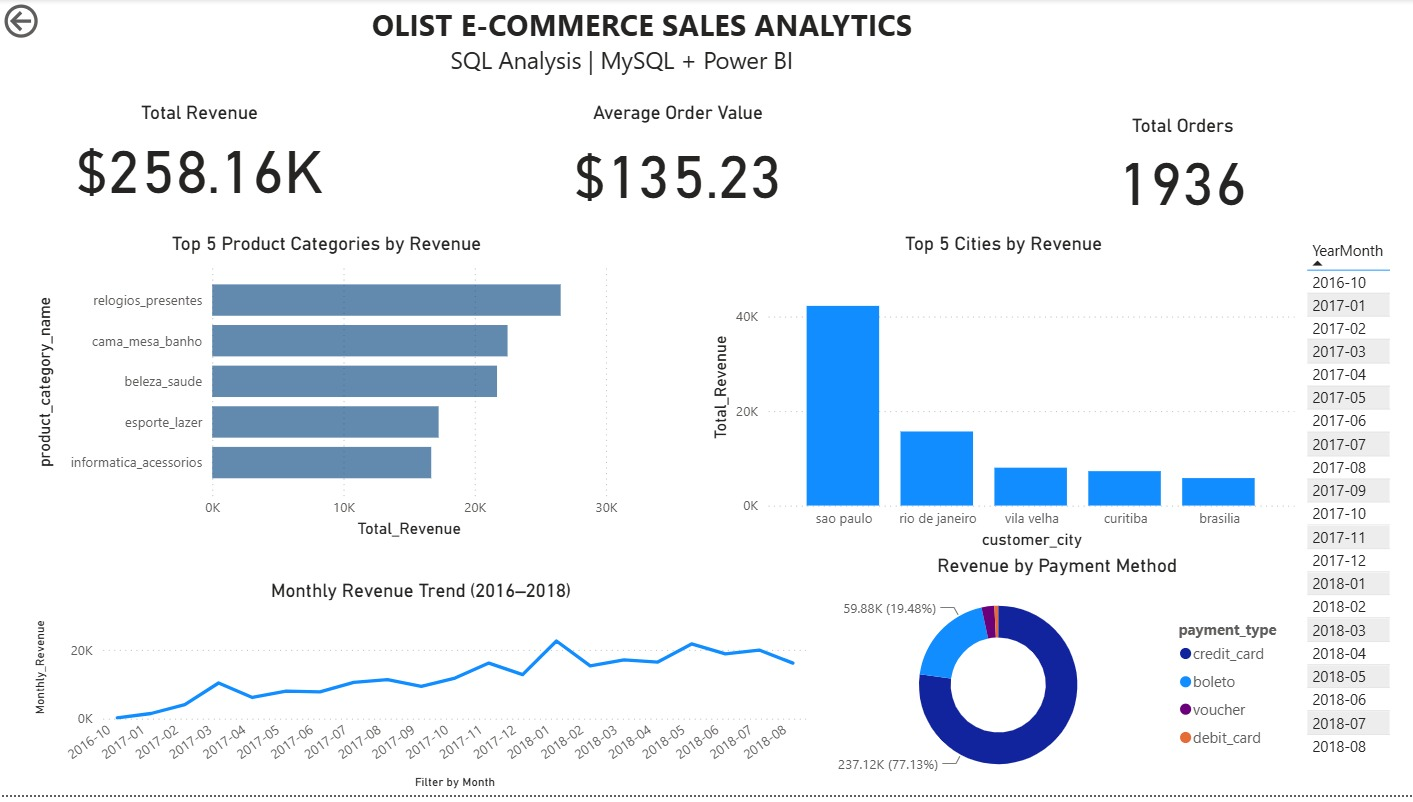

Layout of this report page (visuals, bound fields, positions):
{"tool":"powerbi","page":{"name":"Page 1","canvas":[1280,720],"ordinal":0},"visuals":[{"type":"textbox","box":[10.1,0,1106.2,79.1],"z":0},{"type":"card","title":"Total Revenue","fields":{"Values":["ecommerce order_items.Total_Revenue"]},"box":[43,93,276.7,94.2],"z":1000},{"type":"clusteredBarChart","title":"Top 5 Product Categories by Revenue","fields":{"Category":["ecommerce products.product_category_name"],"Y":["ecommerce order_items.Total_Revenue"]},"box":[28.5,211,535.9,280.8],"z":2000},{"type":"card","title":"Average Order Value","fields":{"Values":["ecommerce order_items.Average_Order_Value"]},"box":[505.8,93,217.4,104.7],"z":3000},{"type":"tableEx","fields":{"Values":["ecommerce orders.YearMonth"]},"box":[1177.4,211.3,102.9,509.1],"z":4000},{"type":"lineChart","title":"Monthly Revenue Trend (2016–2018)","fields":{"Category":["ecommerce orders.YearMonth"],"Y":["ecommerce order_items.Monthly_Revenue"]},"box":[28.5,501.7,708.4,195.3],"z":5000},{"type":"donutChart","title":"Revenue by Payment Method","fields":{"Category":["ecommerce payments.payment_type"],"Y":["Sum(ecommerce payments.payment_value)"]},"box":[735.5,501.7,441.9,218.1],"z":6000},{"type":"card","title":"Total Orders","fields":{"Values":["Count(ecommerce orders.order_id)"]},"box":[933.7,103.5,273.3,94.2],"z":7000},{"type":"clusteredColumnChart","title":"Top 5 Cities by Revenue","fields":{"Category":["Average_Order_Value = DIVIDE(     [Total_Revenue],     CALCULATE(         DISTINCTCOUNT('ecommerce orders'[order_id]),  "],"Y":["ecommerce order_items.Total_Revenue"]},"box":[640,211,537.4,290.8],"z":8000},{"type":"actionButton","box":[0,0,100,40],"z":9000}]}

Visuals, with their boxes in screenshot pixels (x1, y1, x2, y2), scaled from the page's 1280x720 canvas onto the 1413x802 screenshot:
textbox: box(11, 0, 1232, 88)
"Total Revenue" card: box(47, 104, 353, 209)
"Top 5 Product Categories by Revenue" clusteredBarChart: box(31, 235, 623, 548)
"Average Order Value" card: box(558, 104, 798, 220)
tableEx - ecommerce orders.YearMonth: box(1300, 235, 1412, 801)
"Monthly Revenue Trend (2016–2018)" lineChart: box(31, 559, 813, 776)
"Revenue by Payment Method" donutChart: box(812, 559, 1300, 801)
"Total Orders" card: box(1031, 115, 1332, 220)
"Top 5 Cities by Revenue" clusteredColumnChart: box(706, 235, 1300, 559)
actionButton: box(0, 0, 110, 45)
